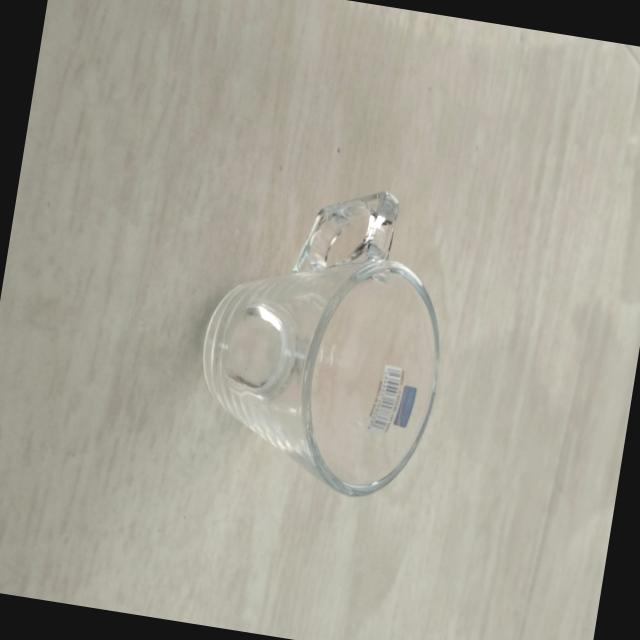glass-VX4N: (178, 166, 468, 524)
